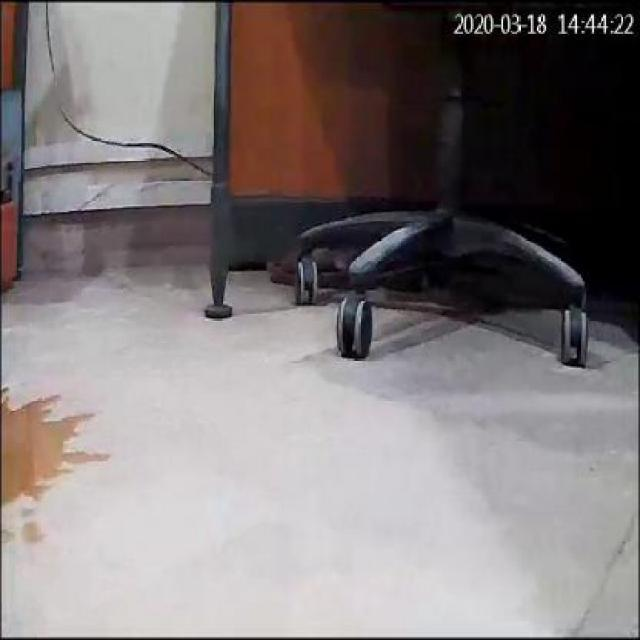spill: (2, 386, 108, 504)
